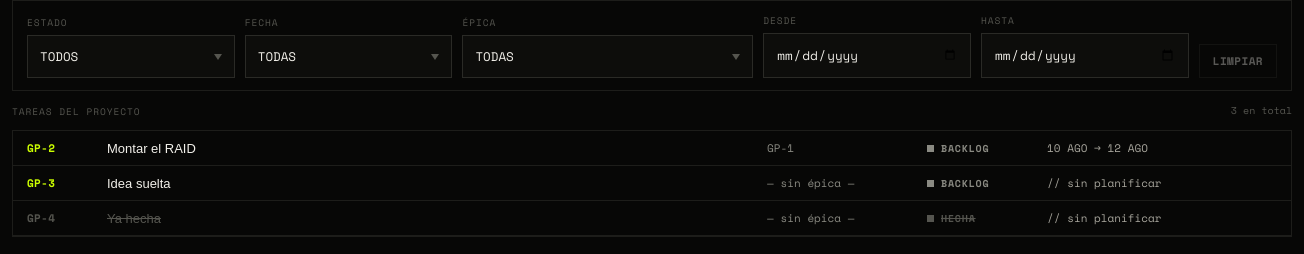
BacklogView › filtra por fecha: sin planificar
Select "SIN PLANIFICAR" in the dropdown labelled "Fecha" at (349, 56), box [245,35,452,78]
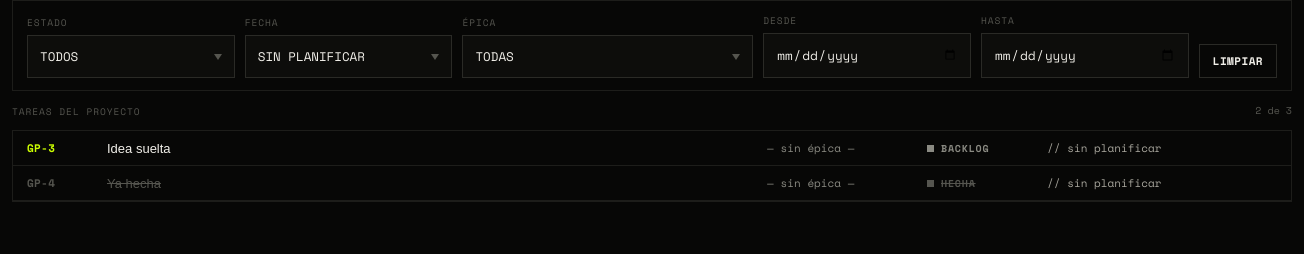
Expected: the text "Idea suelta" is shown, [107,140,171,156]
Expected: the button "Montar el RAID" is gone
